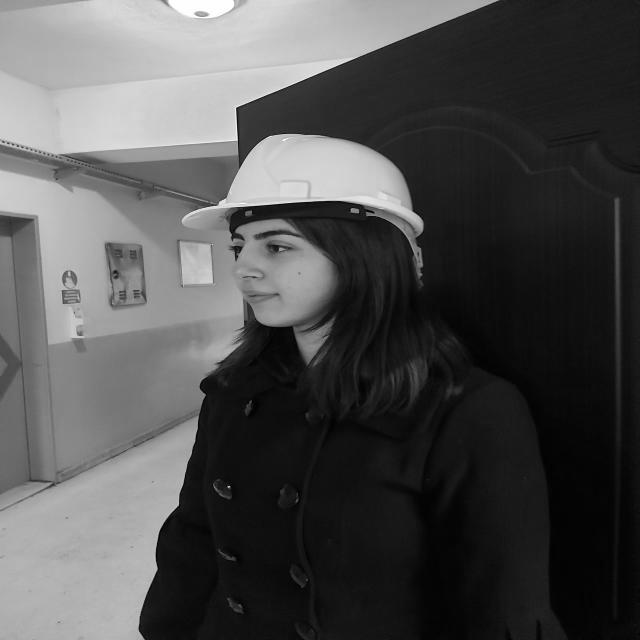construction helmet: (181, 134, 425, 248)
